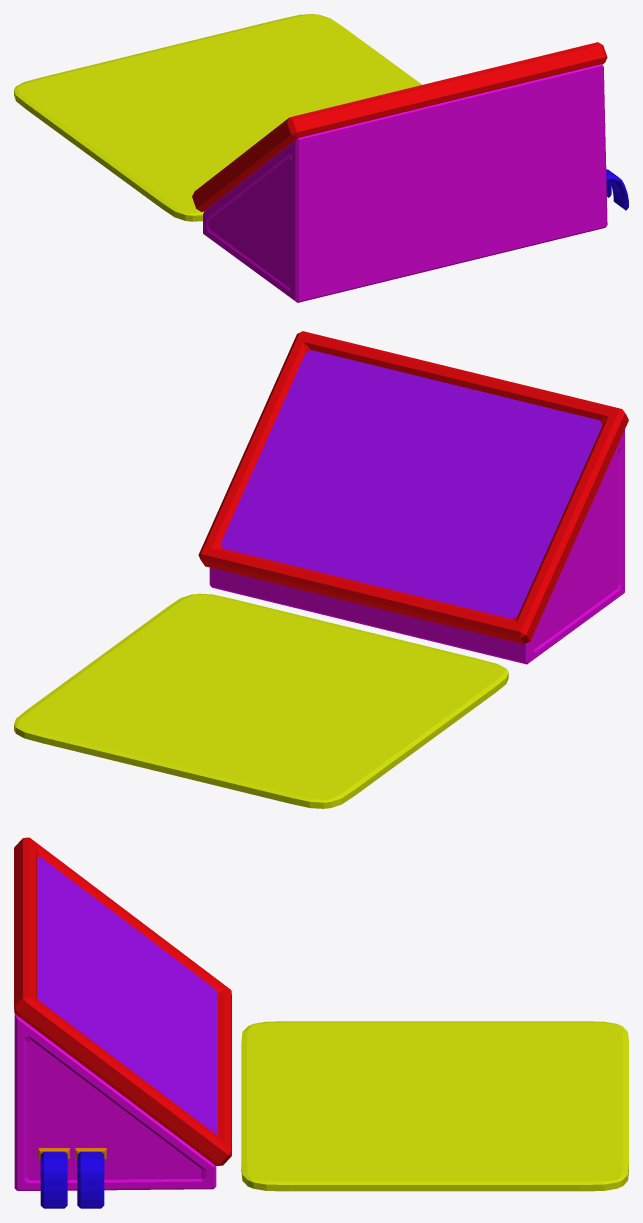
Rendered from terminal.fbx.
The picture shows the model from 3 angles, top to bottom: view 1: azimuth 30°, elevation 25°; view 2: azimuth 150°, elevation 25°; view 3: azimuth 270°, elevation 25°; orthographic projection. The views are drawn at different scales.
Parts seen in each view (by area): view 1: Cube.002, Cube.003, Cube, Cube.005; view 2: Cube.001, Cube.003, Cube, Cube.002; view 3: Cube.003, Cube.001, Cube.002, Cube, Cube.007, Cube.005.
Boxes of the visible parts, x1=… form: Cube.002: x1=203, y1=64, x2=607, y2=302; Cube.003: x1=14, y1=14, x2=421, y2=221; Cube: x1=192, y1=42, x2=607, y2=211; Cube.005: x1=606, y1=169, x2=628, y2=210; Cube.001: x1=220, y1=350, x2=602, y2=618; Cube.003: x1=14, y1=593, x2=508, y2=808; Cube: x1=198, y1=331, x2=628, y2=644; Cube.002: x1=209, y1=430, x2=624, y2=664; Cube.003: x1=241, y1=1021, x2=628, y2=1191; Cube.001: x1=37, y1=856, x2=217, y2=1135; Cube.002: x1=14, y1=1014, x2=216, y2=1190; Cube: x1=14, y1=837, x2=231, y2=1165; Cube.007: x1=77, y1=1151, x2=104, y2=1208; Cube.005: x1=40, y1=1151, x2=67, y2=1208.
Bounding box in the file's own units: 221 × 110 × 317.
